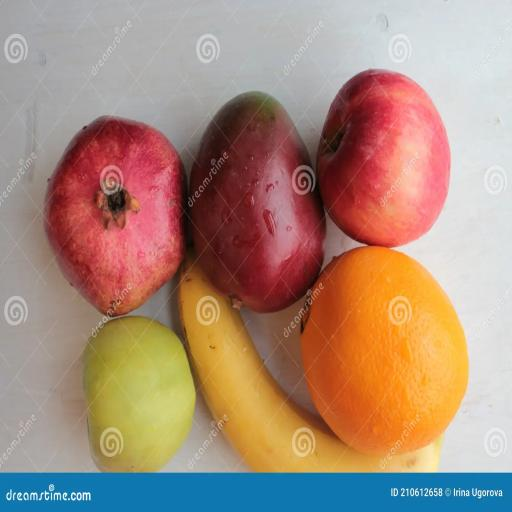apple: (45, 117, 186, 317), (317, 70, 450, 246), (83, 317, 195, 472)
banana: (179, 250, 442, 471)
mango: (191, 94, 323, 311)
orange: (301, 247, 468, 465)
